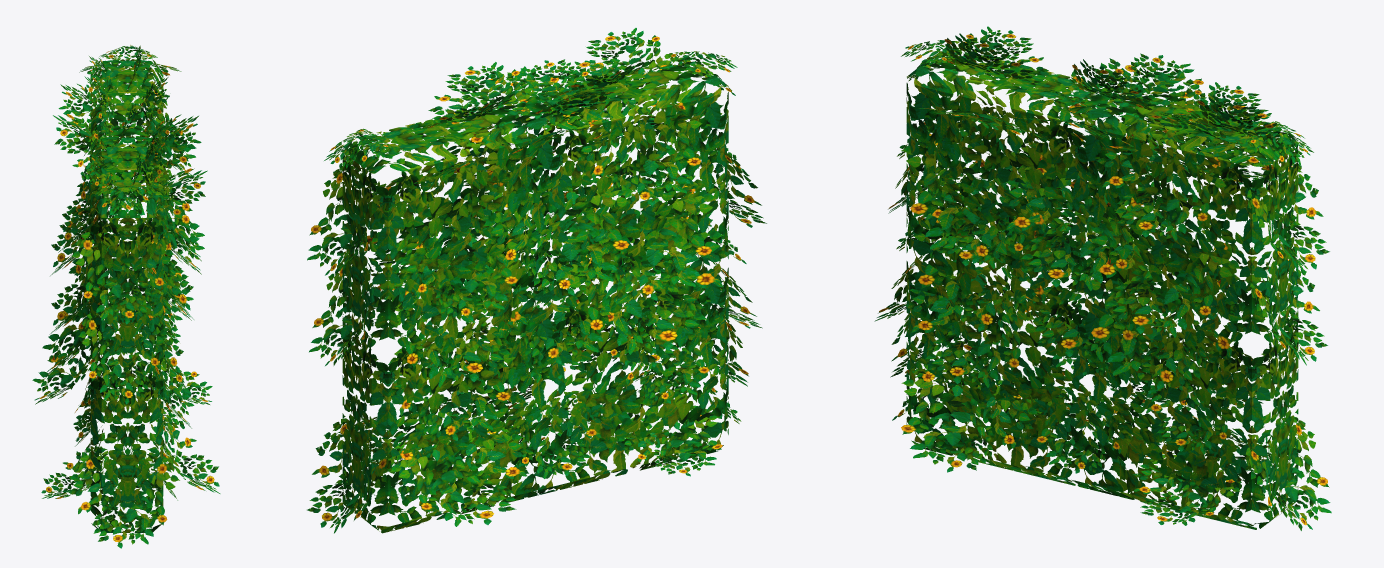
Rendered from Plant Wall.glb.
3 views of the same model, side by side, from view 1: azimuth 30°, elevation 25°; view 2: azimuth 150°, elevation 25°; view 3: azimuth 270°, elevation 25° (orthographic). The views are drawn at different scales.
Parts seen in each view (by area): view 1: SM_PlantWall; view 2: SM_PlantWall; view 3: SM_PlantWall.
Boxes of the visible parts, <box> form: SM_PlantWall: <box>32,45,220,548</box>; SM_PlantWall: <box>307,28,766,533</box>; SM_PlantWall: <box>874,26,1331,530</box>.
Bounding box in the file's own units: 2.04 × 2.29 × 2.55.
2 materials, 2 textured.
